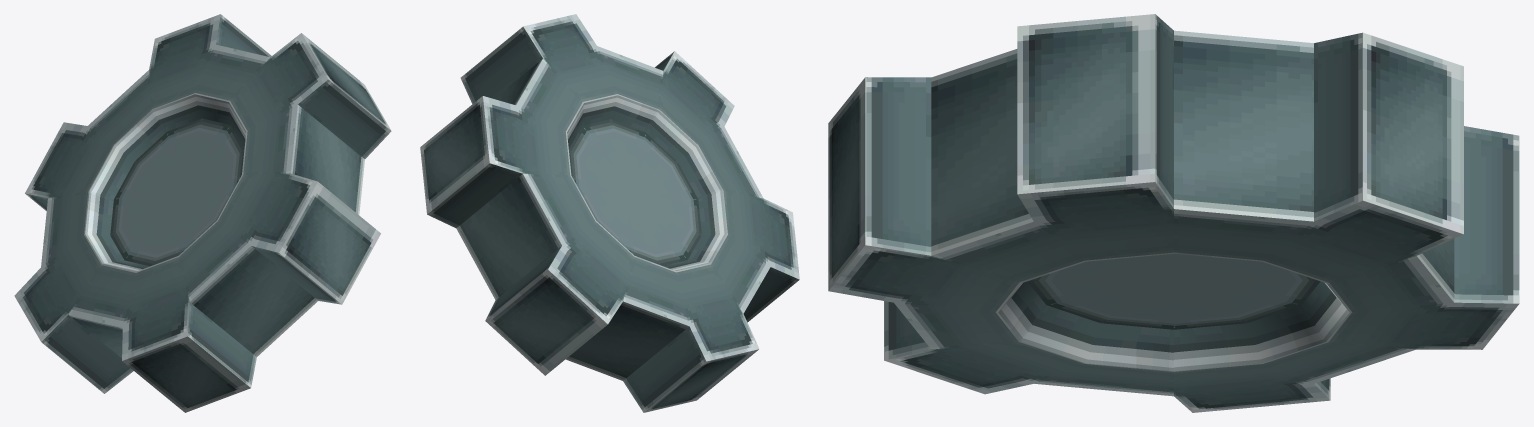
The model's file is bolt-50.glb.
3 renders of one model, left to right at view 1: azimuth 30°, elevation 25°; view 2: azimuth 150°, elevation 25°; view 3: azimuth 270°, elevation 25°, orthographic. The views are drawn at different scales.
Visible parts, largest first — view 1: Bolt-50; view 2: Bolt-50; view 3: Bolt-50.
Part boxes in pixels (x1,y1,x2,y2): Bolt-50: [14, 14, 391, 412]; Bolt-50: [420, 14, 799, 412]; Bolt-50: [828, 14, 1519, 412].
Bounding box in the file's own units: 0.7683 × 0.7608 × 0.8596.
1 material, 1 textured.
